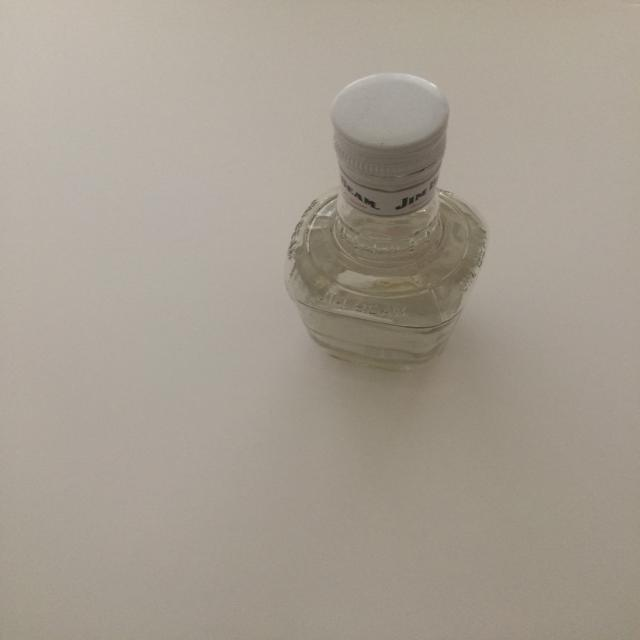glass: (284, 73, 488, 382)
